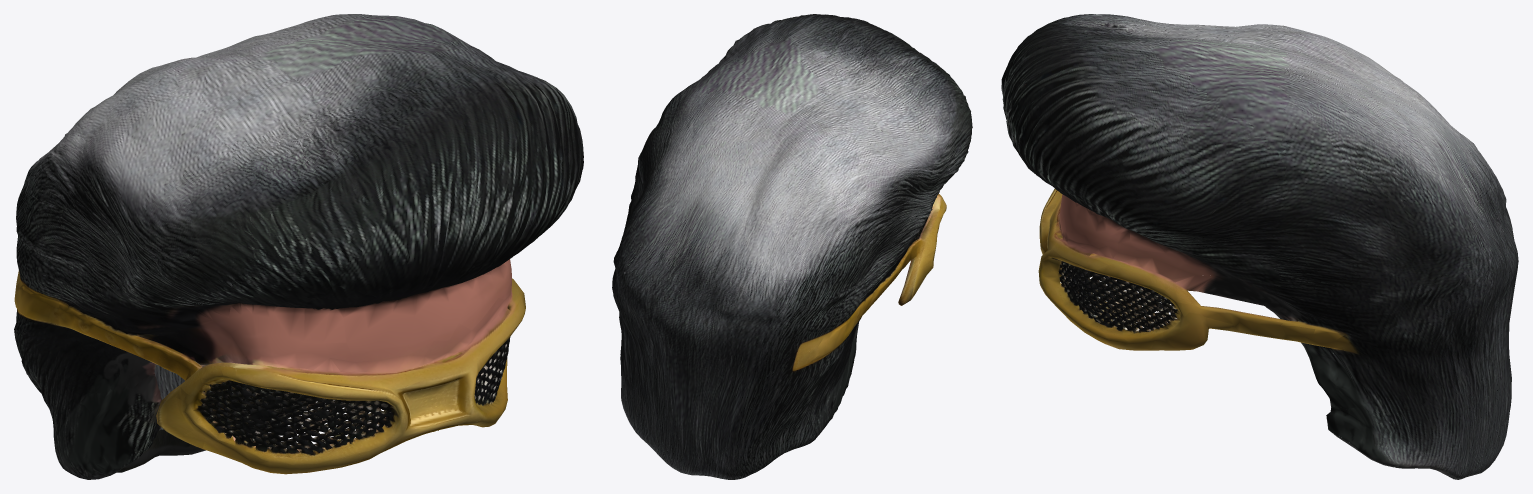
Rendered from TonySiteNoWebp.glb.
3 renders of one model, left to right at view 1: azimuth 30°, elevation 25°; view 2: azimuth 150°, elevation 25°; view 3: azimuth 270°, elevation 25°, orthographic. The views are drawn at different scales.
Visible parts, largest first — view 1: Mesh_0; view 2: Mesh_0; view 3: Mesh_0.
Part boxes in pixels (x1,y1,x2,y2): Mesh_0: (14, 14, 583, 479); Mesh_0: (612, 14, 972, 479); Mesh_0: (1001, 14, 1518, 479).
Size of the model in its own units: 1.38 by 1.73 by 1.87.
1 material, 1 textured.
